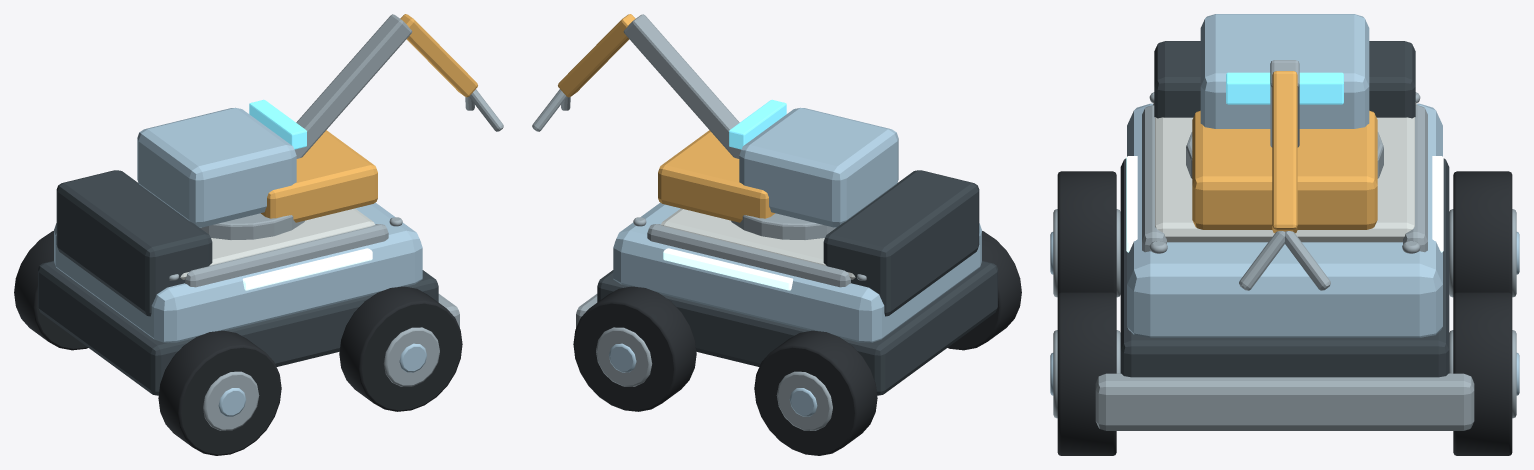
The model's file is robot-engineer.glb.
The picture shows the model from 3 angles, left to right: view 1: azimuth 30°, elevation 25°; view 2: azimuth 150°, elevation 25°; view 3: azimuth 270°, elevation 25°; orthographic projection. The views are drawn at different scales.
Parts seen in each view (by area): view 1: Chassis_GraphiteArmor, ArmorHull, TurretHousing, WheelTire.002, WheelTire, Turret_WarningAmber, Turret_BrushedTitanium, Chassis_BrushedTitanium, TopPlate, WheelTire.001, Hub.002, Hub (+4 smaller); view 2: Chassis_GraphiteArmor, ArmorHull, TurretHousing, WheelTire.003, WheelTire.001, Turret_WarningAmber, Turret_BrushedTitanium, Chassis_BrushedTitanium, TopPlate, WheelTire, Hub.003, Hub.001 (+4 smaller); view 3: ArmorHull, Chassis_BrushedTitanium, Chassis_GraphiteArmor, Turret_WarningAmber, TurretHousing, TopPlate, WheelTire.003, WheelTire.002, WheelTire.001, WheelTire, Turret_BrushedTitanium, SensorPanel (+5 smaller).
Part boxes in pixels (x1,y1,x2,y2): Chassis_GraphiteArmor: (38,170,438,395); ArmorHull: (54,202,422,342); TurretHousing: (137,107,296,227); WheelTire.002: (339,286,462,411); WheelTire: (158,330,281,455); Turret_WarningAmber: (261,14,477,222); Turret_BrushedTitanium: (200,14,503,239); Chassis_BrushedTitanium: (169,217,459,327); TopPlate: (180,208,374,279); WheelTire.001: (14,231,88,350); Hub.002: (383,327,439,386); Hub: (203,371,259,430); Chassis_GraphiteArmor: (597,170,997,395); ArmorHull: (613,202,981,342); TurretHousing: (739,107,898,227); WheelTire.003: (573,286,696,411); WheelTire.001: (754,330,877,455); Turret_WarningAmber: (558,14,774,222); Turret_BrushedTitanium: (532,14,835,239); Chassis_BrushedTitanium: (576,217,866,327); TopPlate: (661,208,855,279); WheelTire: (947,231,1021,350); Hub.003: (596,327,652,386); Hub.001: (776,371,832,430); ArmorHull: (1127,103,1442,337); Chassis_BrushedTitanium: (1095,92,1474,430); Chassis_GraphiteArmor: (1120,41,1449,377); Turret_WarningAmber: (1192,71,1377,233); TurretHousing: (1200,14,1369,128); TopPlate: (1153,102,1416,242); WheelTire.003: (1453,292,1512,455); WheelTire.002: (1057,292,1116,455); WheelTire.001: (1453,171,1512,295); WheelTire: (1057,171,1116,295); Turret_BrushedTitanium: (1186,60,1383,290); SensorPanel: (1226,72,1343,104).
Bounding box in the file's own units: 1.01 × 0.7735 × 0.7582.
